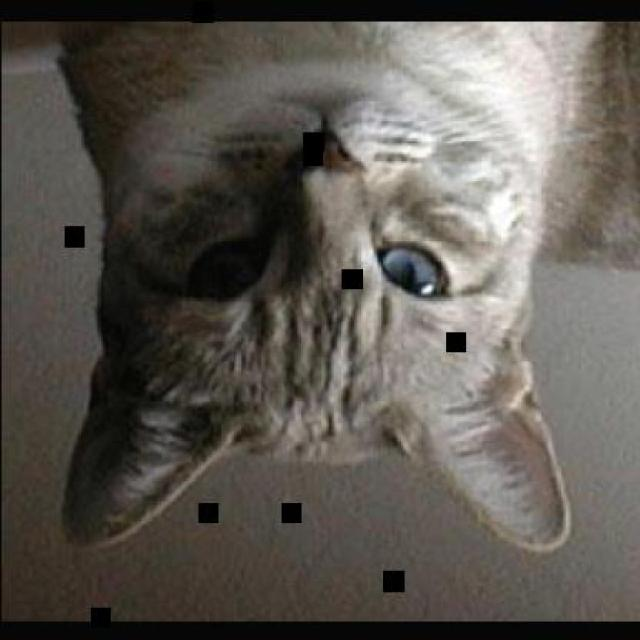unauthorized: (52, 18, 638, 554)
